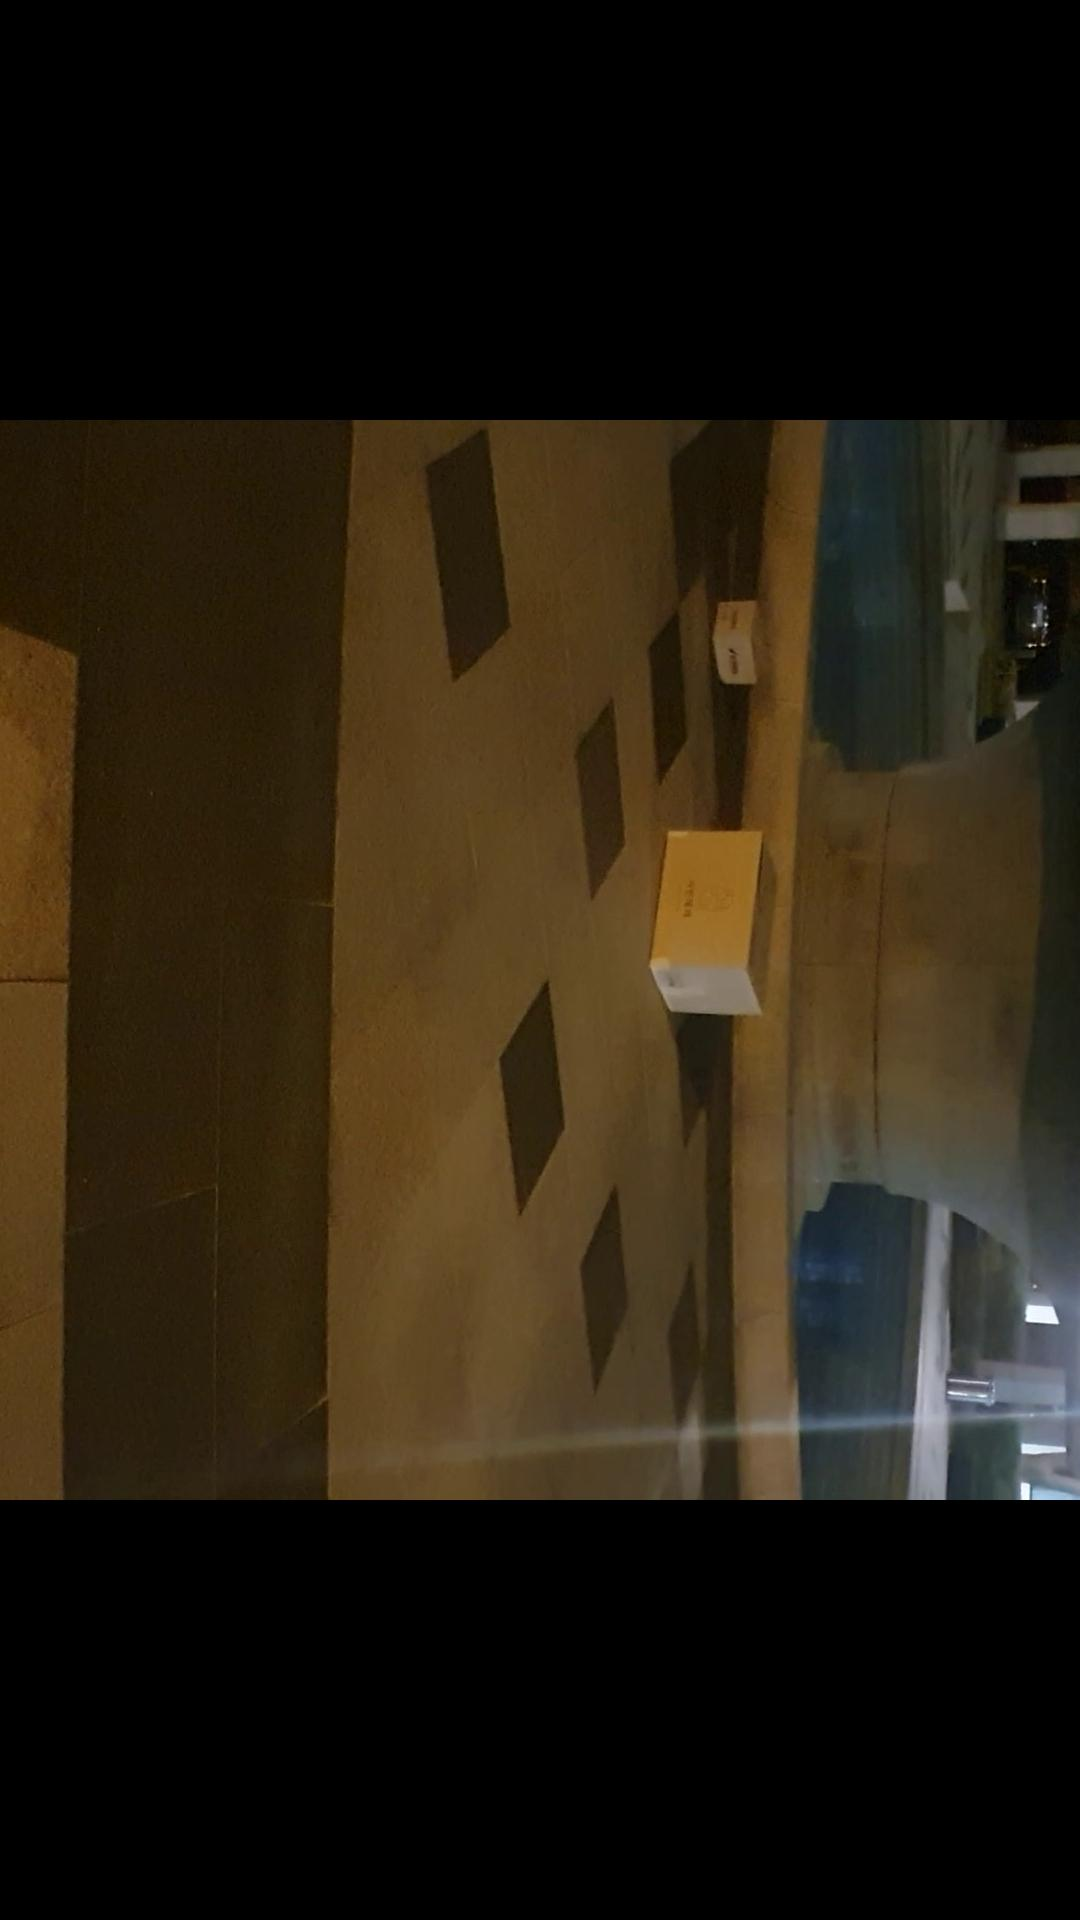Box: (647, 814, 796, 1017), (700, 597, 771, 692)
